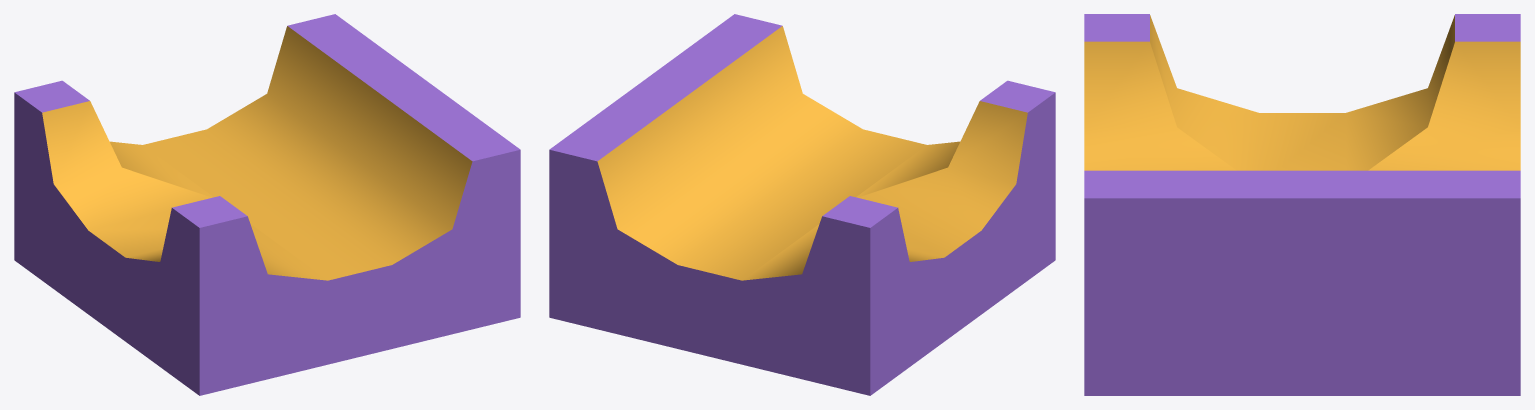
File: kenney-marble-split.glb
The picture shows the model from 3 angles, left to right: view 1: azimuth 30°, elevation 25°; view 2: azimuth 150°, elevation 25°; view 3: azimuth 270°, elevation 25°; orthographic projection. The views are drawn at different scales.
Parts seen in each view (by area): view 1: split; view 2: split; view 3: split.
Boxes of the visible parts, x1,y1,x2,y2 form: split: (14, 14, 520, 395); split: (549, 14, 1055, 395); split: (1084, 14, 1520, 395).
Size of the model in its own units: 1 by 0.5001 by 1.
Materials: 1 (1 with a texture image).
